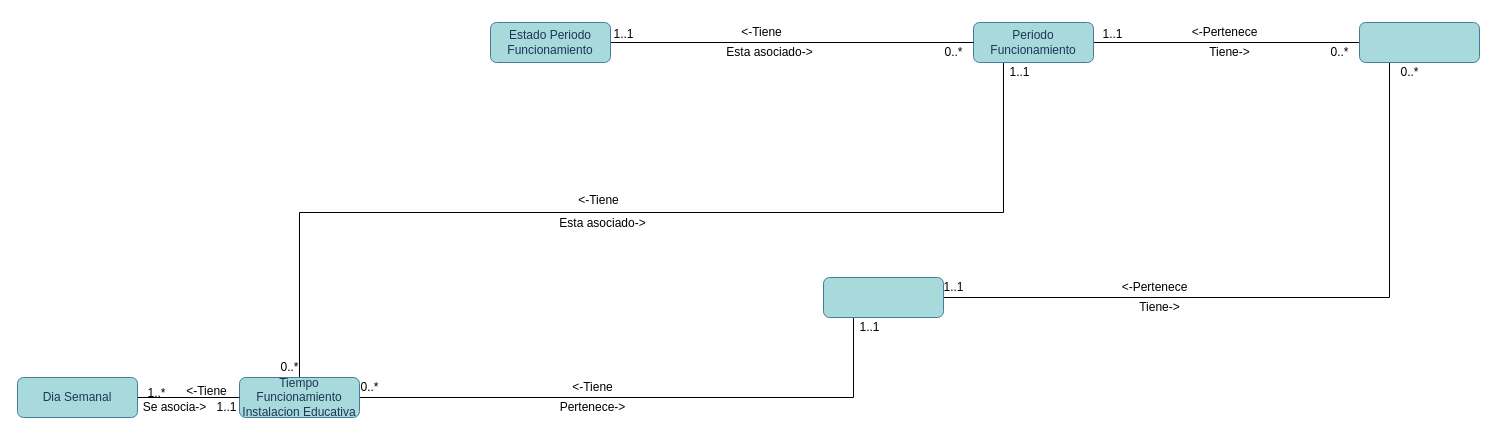
This 1497x439 diagram has some shape labels left out. The shapes that lost their labels are listed below. From the top down, each one's centre as x and y in pixels, then its label:
At (x=1419, y=42): "Agenda".
At (x=883, y=297): "Instalacion Educativa".
